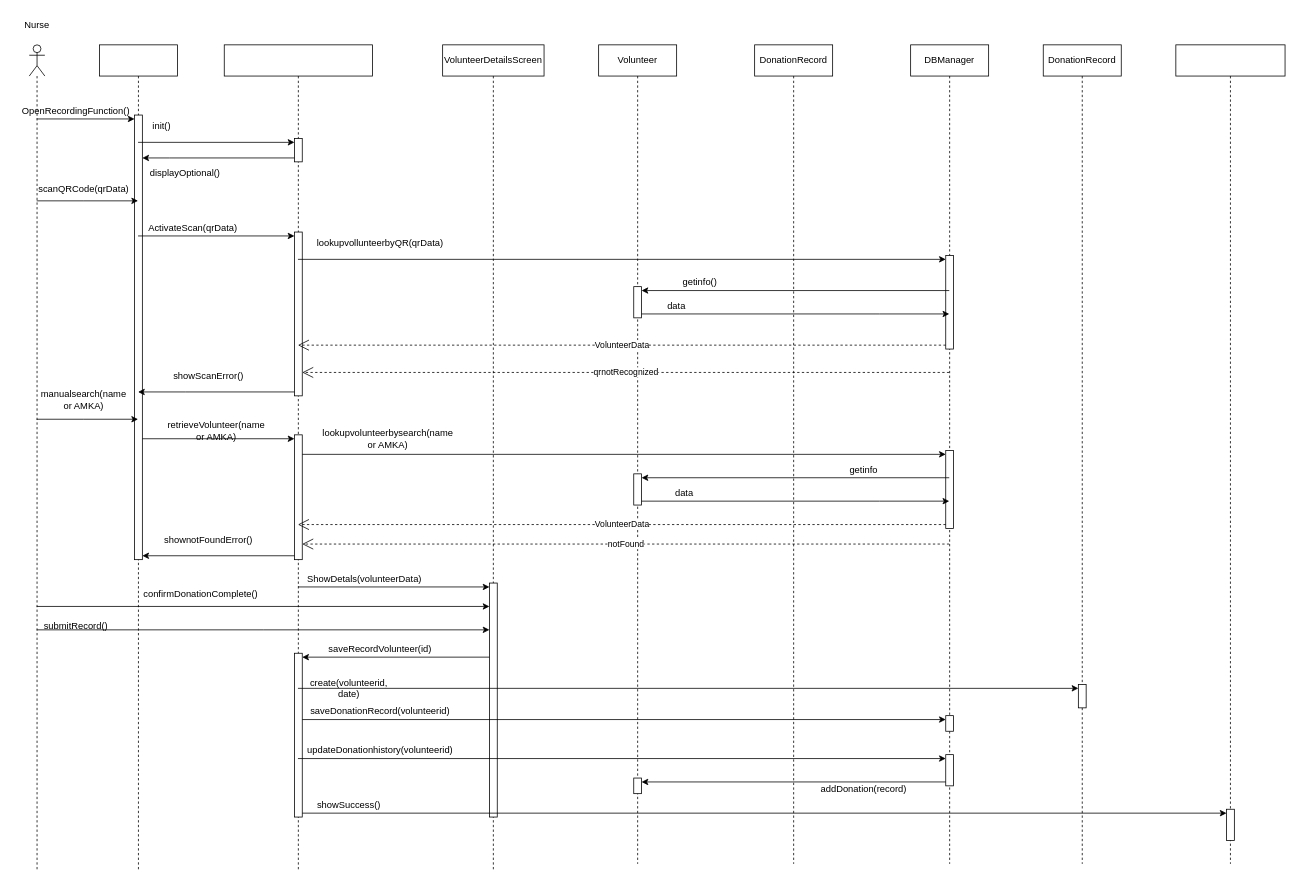
Image size: 1299x885. Some labels were removed from this diagram. Each missing label, with the box of its shape:
ManagerDonationRecordController: (223, 44, 372, 872)
OptionsMenu: (99, 44, 177, 872)
SuccessMessageScreen: (1175, 44, 1285, 864)
